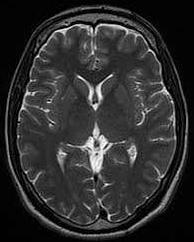Normal_Brain: (1, 1, 194, 242)
